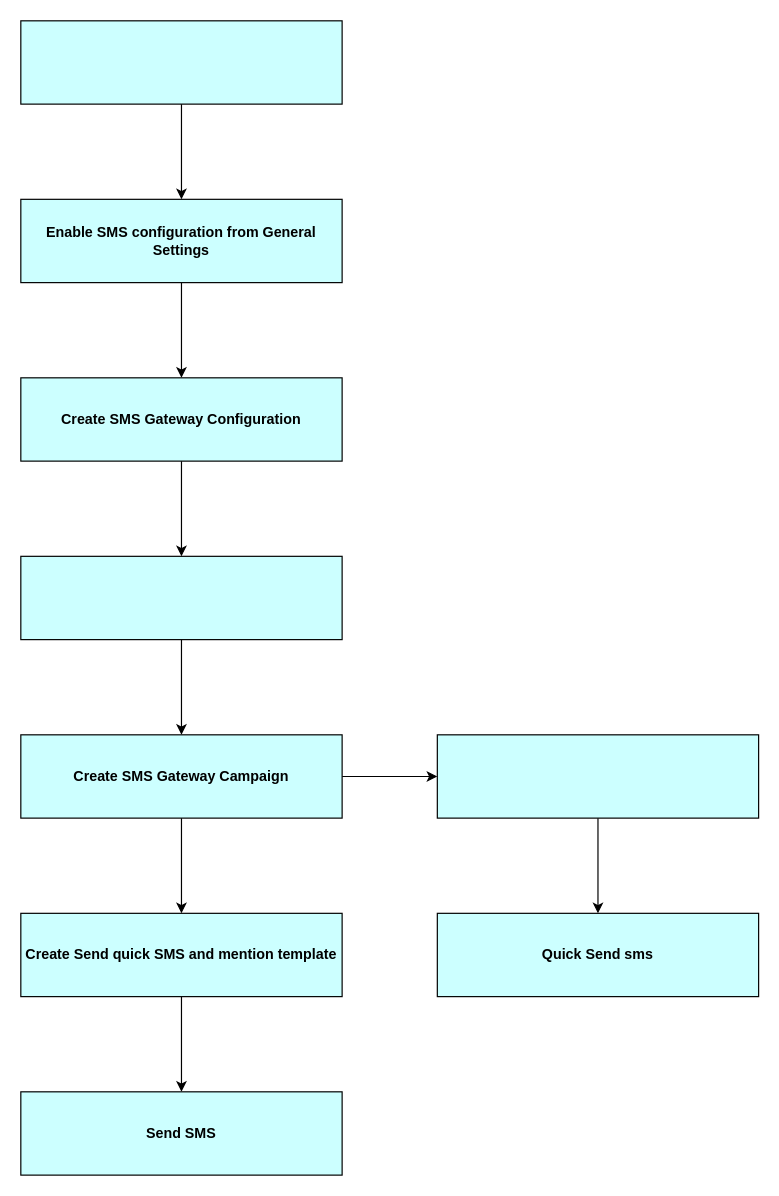
This 779x1196 diagram has some shape labels left out. Each missing label, with the centre of its shape:
"Create send quick SMS and mention template for particular condition" goes at [597,776].
"Create SMS Gateway Template" goes at [181,597].
"Enable SMS configuration from users" goes at [181,62].
